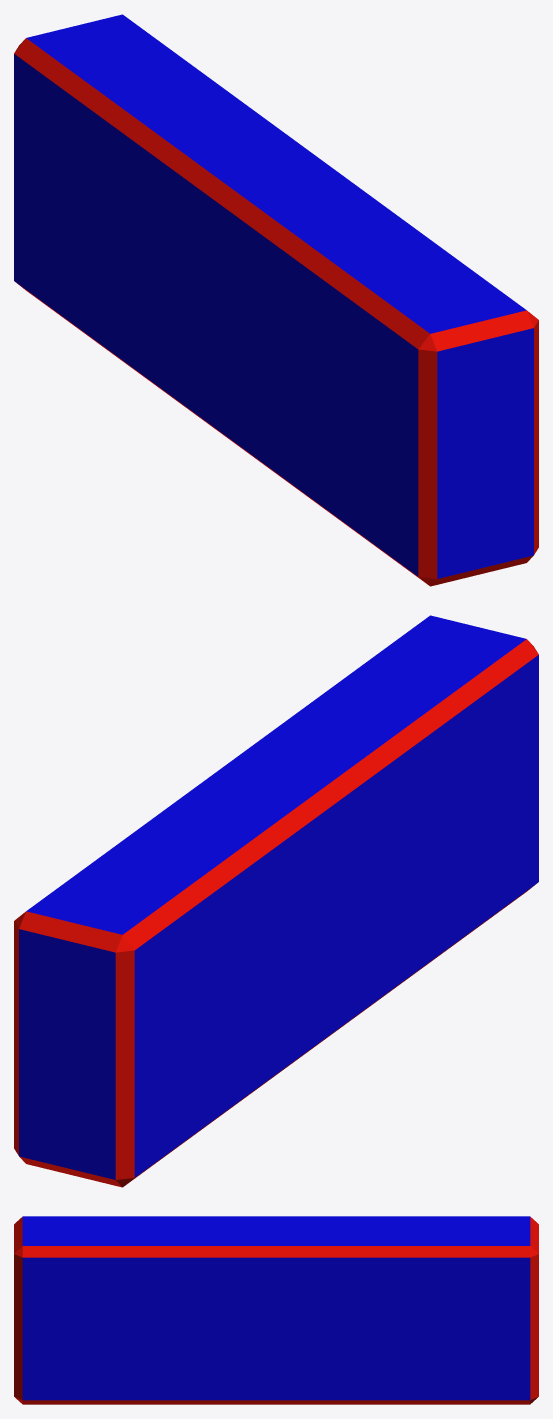
File: HUB_Tiny_Platform1.fbx
The picture shows the model from 3 angles, top to bottom: view 1: azimuth 30°, elevation 25°; view 2: azimuth 150°, elevation 25°; view 3: azimuth 270°, elevation 25°; orthographic projection. The views are drawn at different scales.
Visible parts, largest first — view 1: HUB_Tiny_Platform1; view 2: HUB_Tiny_Platform1; view 3: HUB_Tiny_Platform1.
Part boxes in pixels (x1,y1,x2,y2): HUB_Tiny_Platform1: (14,14,538,586); HUB_Tiny_Platform1: (14,615,538,1187); HUB_Tiny_Platform1: (14,1216,538,1404).
Size of the model in its own units: 50 by 100 by 300.
